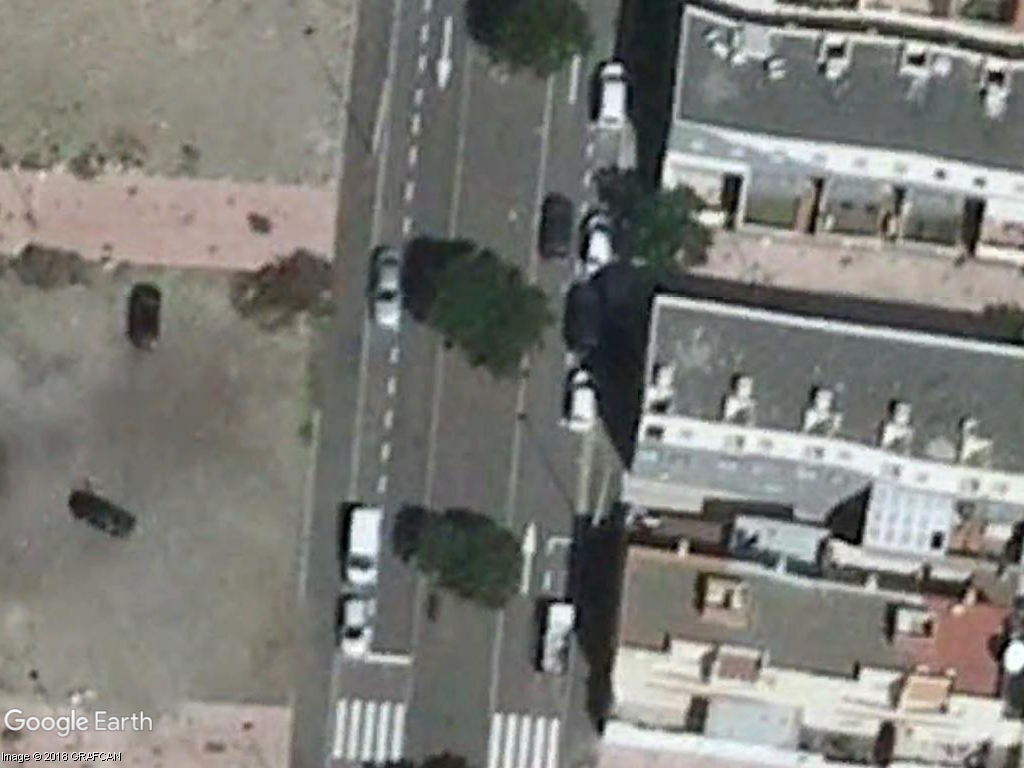car: (365, 244, 408, 335), (589, 56, 630, 137), (577, 202, 618, 282), (562, 362, 601, 442), (334, 590, 376, 663), (537, 190, 576, 266)
truck: (340, 497, 388, 596)
